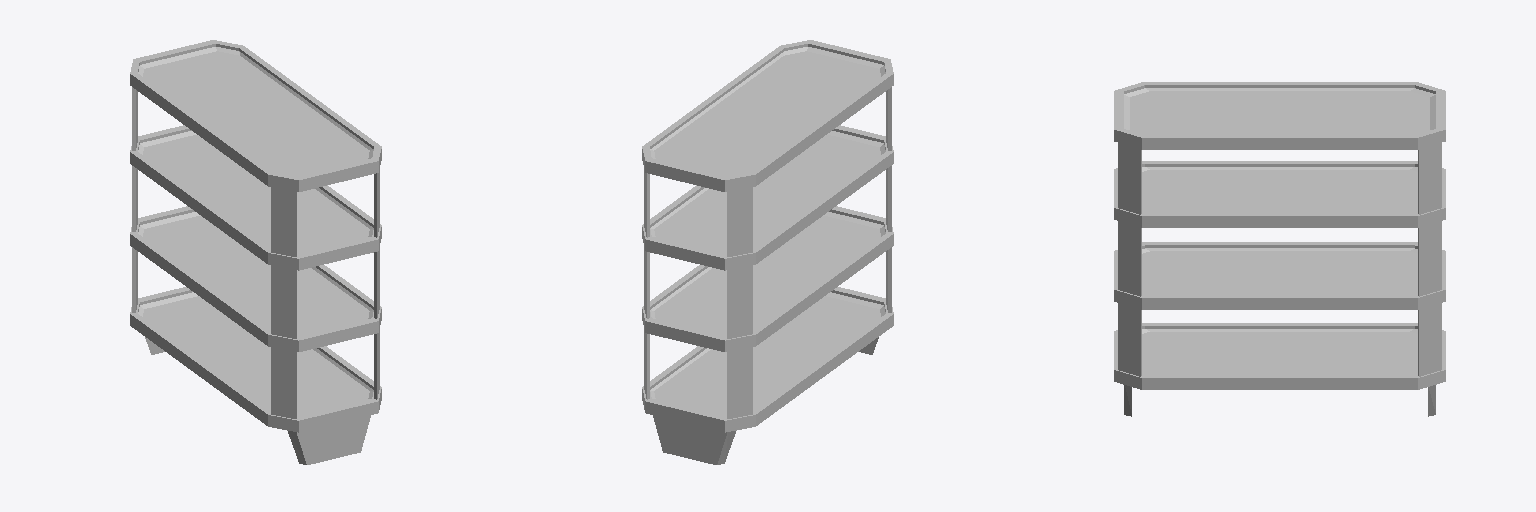
File: Полки для хранения.obj
3 views of the same model, side by side, from view 1: azimuth 30°, elevation 25°; view 2: azimuth 150°, elevation 25°; view 3: azimuth 270°, elevation 25° (orthographic).
Parts seen in each view (by area): view 1: Cube.002, Cube.001, Cube; view 2: Cube.002, Cube.001, Cube; view 3: Cube.002, Cube, Cube.001.
Boxes of the visible parts, x1,y1,x2,y2 form: Cube.002: [130, 87, 381, 351]; Cube.001: [130, 40, 381, 191]; Cube: [130, 247, 381, 464]; Cube.002: [642, 87, 893, 351]; Cube.001: [642, 40, 893, 191]; Cube: [642, 247, 893, 464]; Cube.002: [1114, 143, 1445, 309]; Cube: [1114, 303, 1445, 416]; Cube.001: [1114, 82, 1445, 149].
Bounding box in the file's own units: 1.2 × 2.94 × 3.02.